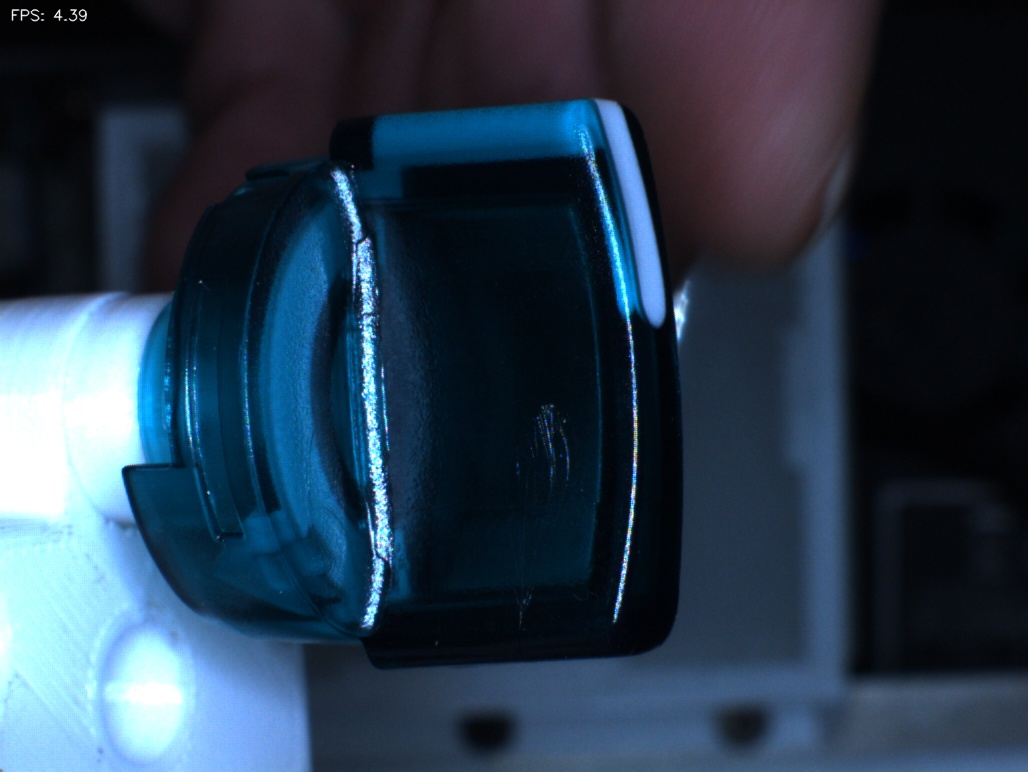Givrage: (494, 387, 579, 641)
